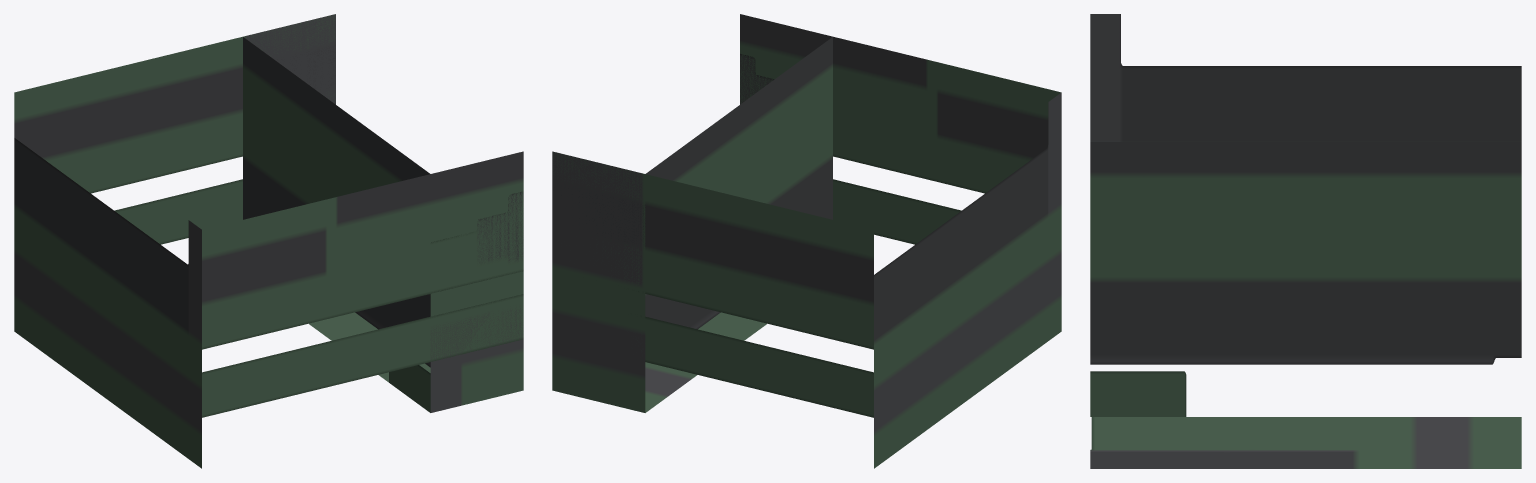
File: section-6.obj
3 views of the same model, side by side, from view 1: azimuth 30°, elevation 25°; view 2: azimuth 150°, elevation 25°; view 3: azimuth 270°, elevation 25° (orthographic). The views are drawn at different scales.
Bounding box in the file's own units: 0.963 × 0.6846 × 0.9741.
